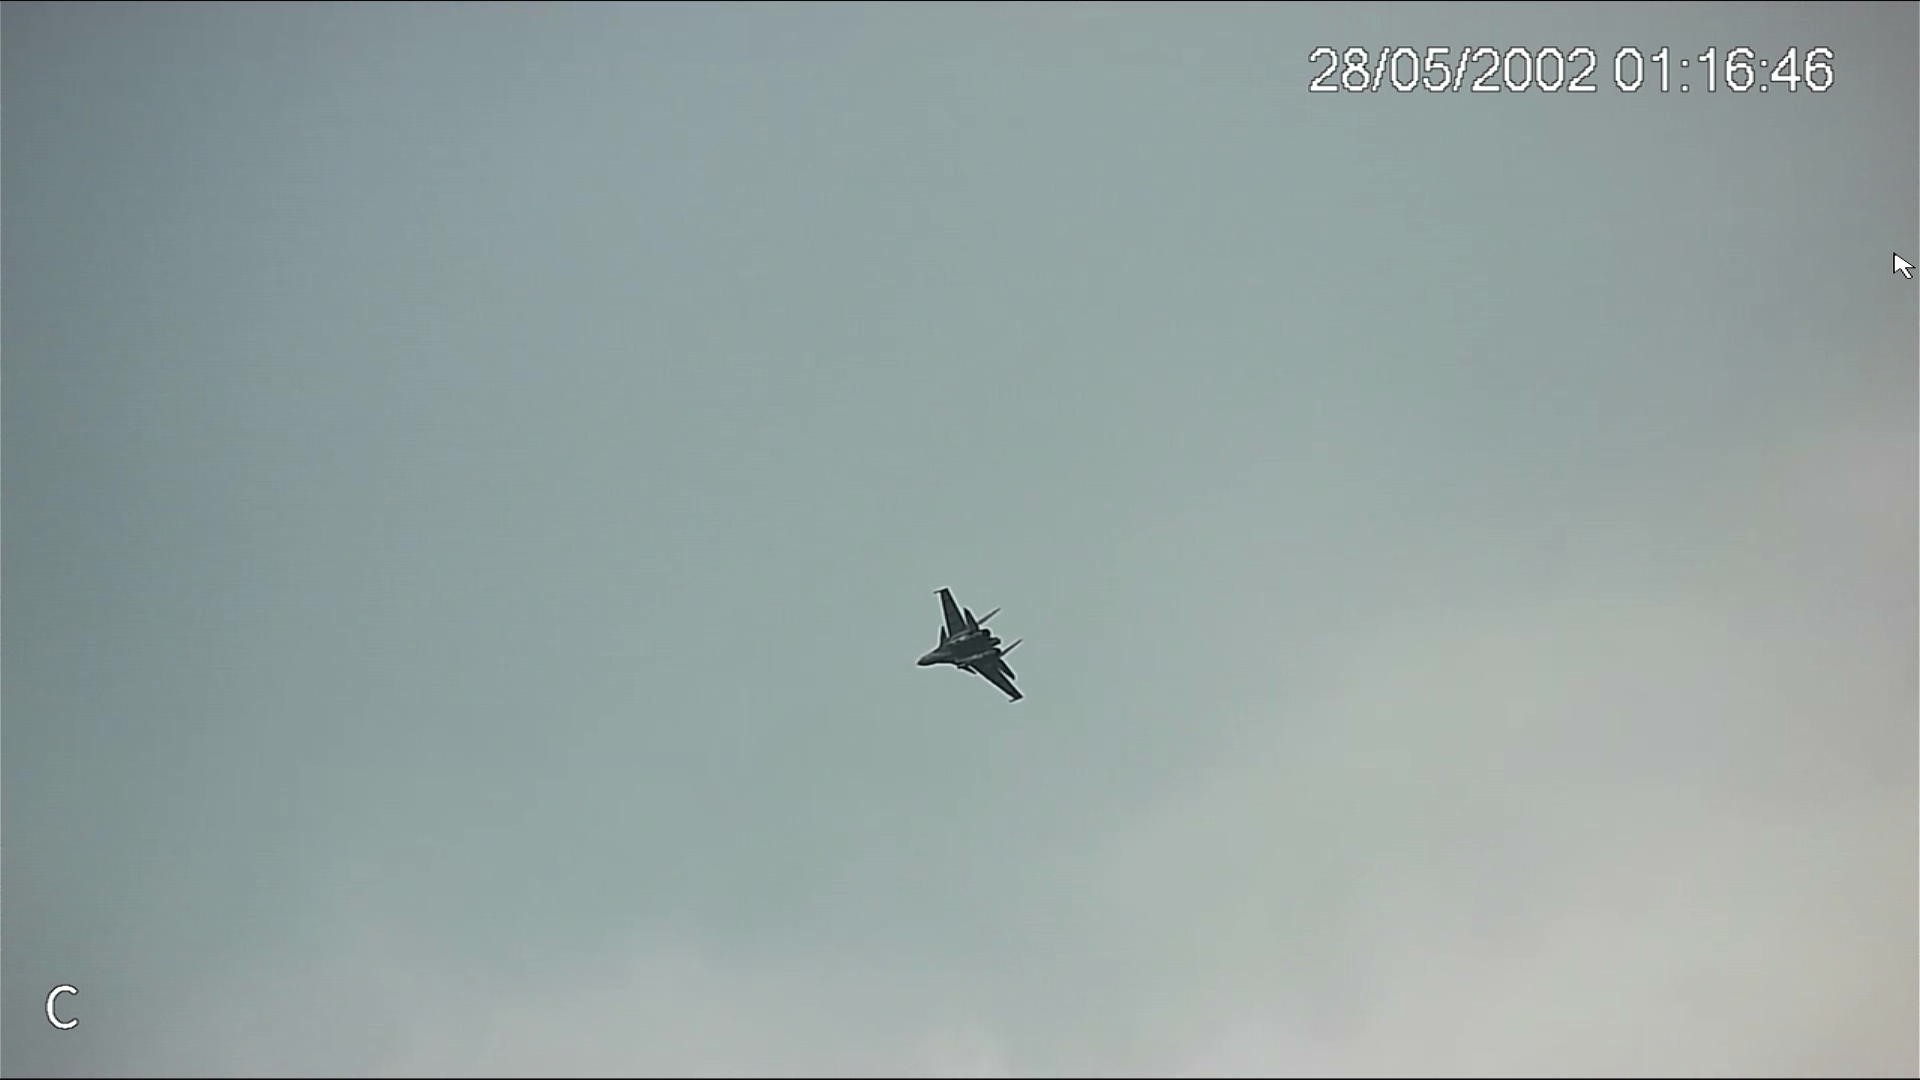SU_30: (910, 588, 1031, 703)
